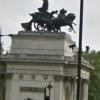Statue: (10, 2, 84, 43)
